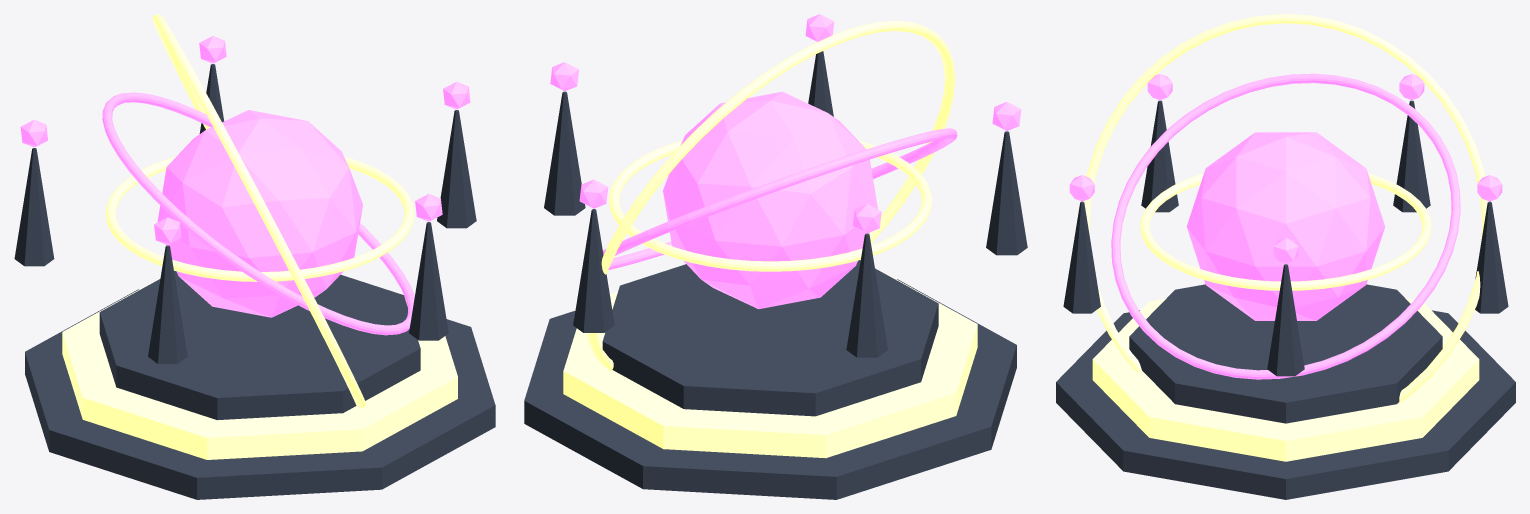
File: gpu-blender-v27.glb
3 views of the same model, side by side, from view 1: azimuth 30°, elevation 25°; view 2: azimuth 150°, elevation 25°; view 3: azimuth 270°, elevation 25° (orthographic). The views are drawn at different scales.
Parts seen in each view (by area): view 1: Cylinder.002, SovereignCore_zothos-lite, Cylinder, Cylinder.001, Torus.001, Torus.002, Torus, Cone.002, Cone.004, Cone.003, Cone, Icosphere.001 (+5 smaller); view 2: Cylinder.002, SovereignCore_zothos-lite, Cylinder, Cylinder.001, Torus.002, Torus, Torus.001, Cone.003, Cone.002, Cone, Cone.001, Cone.004 (+5 smaller); view 3: SovereignCore_zothos-lite, Cylinder.002, Cylinder, Cylinder.001, Torus.001, Torus.002, Torus, Cone, Cone.004, Cone.001, Cone.002, Cone.003 (+5 smaller).
Part boxes in pixels (<box>): Cylinder.002: <box>99,271,420,420</box>; SovereignCore_zothos-lite: <box>157,110,362,317</box>; Cylinder: <box>25,289,495,499</box>; Cylinder.001: <box>62,279,457,459</box>; Torus.001: <box>102,92,414,335</box>; Torus.002: <box>152,14,366,407</box>; Torus: <box>105,156,414,281</box>; Cone.002: <box>14,148,54,266</box>; Cone.004: <box>409,222,448,340</box>; Cone.003: <box>148,245,187,363</box>; Cone: <box>437,110,476,228</box>; Icosphere.001: <box>199,36,226,63</box>; Cylinder.002: <box>602,260,938,416</box>; SovereignCore_zothos-lite: <box>663,91,877,309</box>; Cylinder: <box>524,279,1016,499</box>; Cylinder.001: <box>563,269,977,458</box>; Torus.002: <box>587,20,954,370</box>; Torus: <box>609,140,932,271</box>; Torus.001: <box>603,128,957,269</box>; Cone.003: <box>986,131,1027,255</box>; Cone.002: <box>846,233,887,357</box>; Cone: <box>544,91,585,215</box>; Cone.001: <box>573,209,614,332</box>; Cone.004: <box>808,51,833,116</box>; SovereignCore_zothos-lite: <box>1186,132,1385,320</box>; Cylinder.002: <box>1129,284,1442,423</box>; Cylinder: <box>1056,310,1515,499</box>; Cylinder.001: <box>1092,298,1479,461</box>; Torus.001: <box>1111,73,1460,379</box>; Torus.002: <box>1083,14,1488,403</box>; Torus: <box>1140,173,1431,290</box>; Cone: <box>1267,264,1304,376</box>; Cone.004: <box>1063,201,1100,313</box>; Cone.001: <box>1475,201,1508,313</box>; Cone.002: <box>1393,100,1430,212</box>; Cone.003: <box>1141,100,1178,212</box>.
Bounding box in the file's own units: 4.41 × 3.72 × 4.4.
